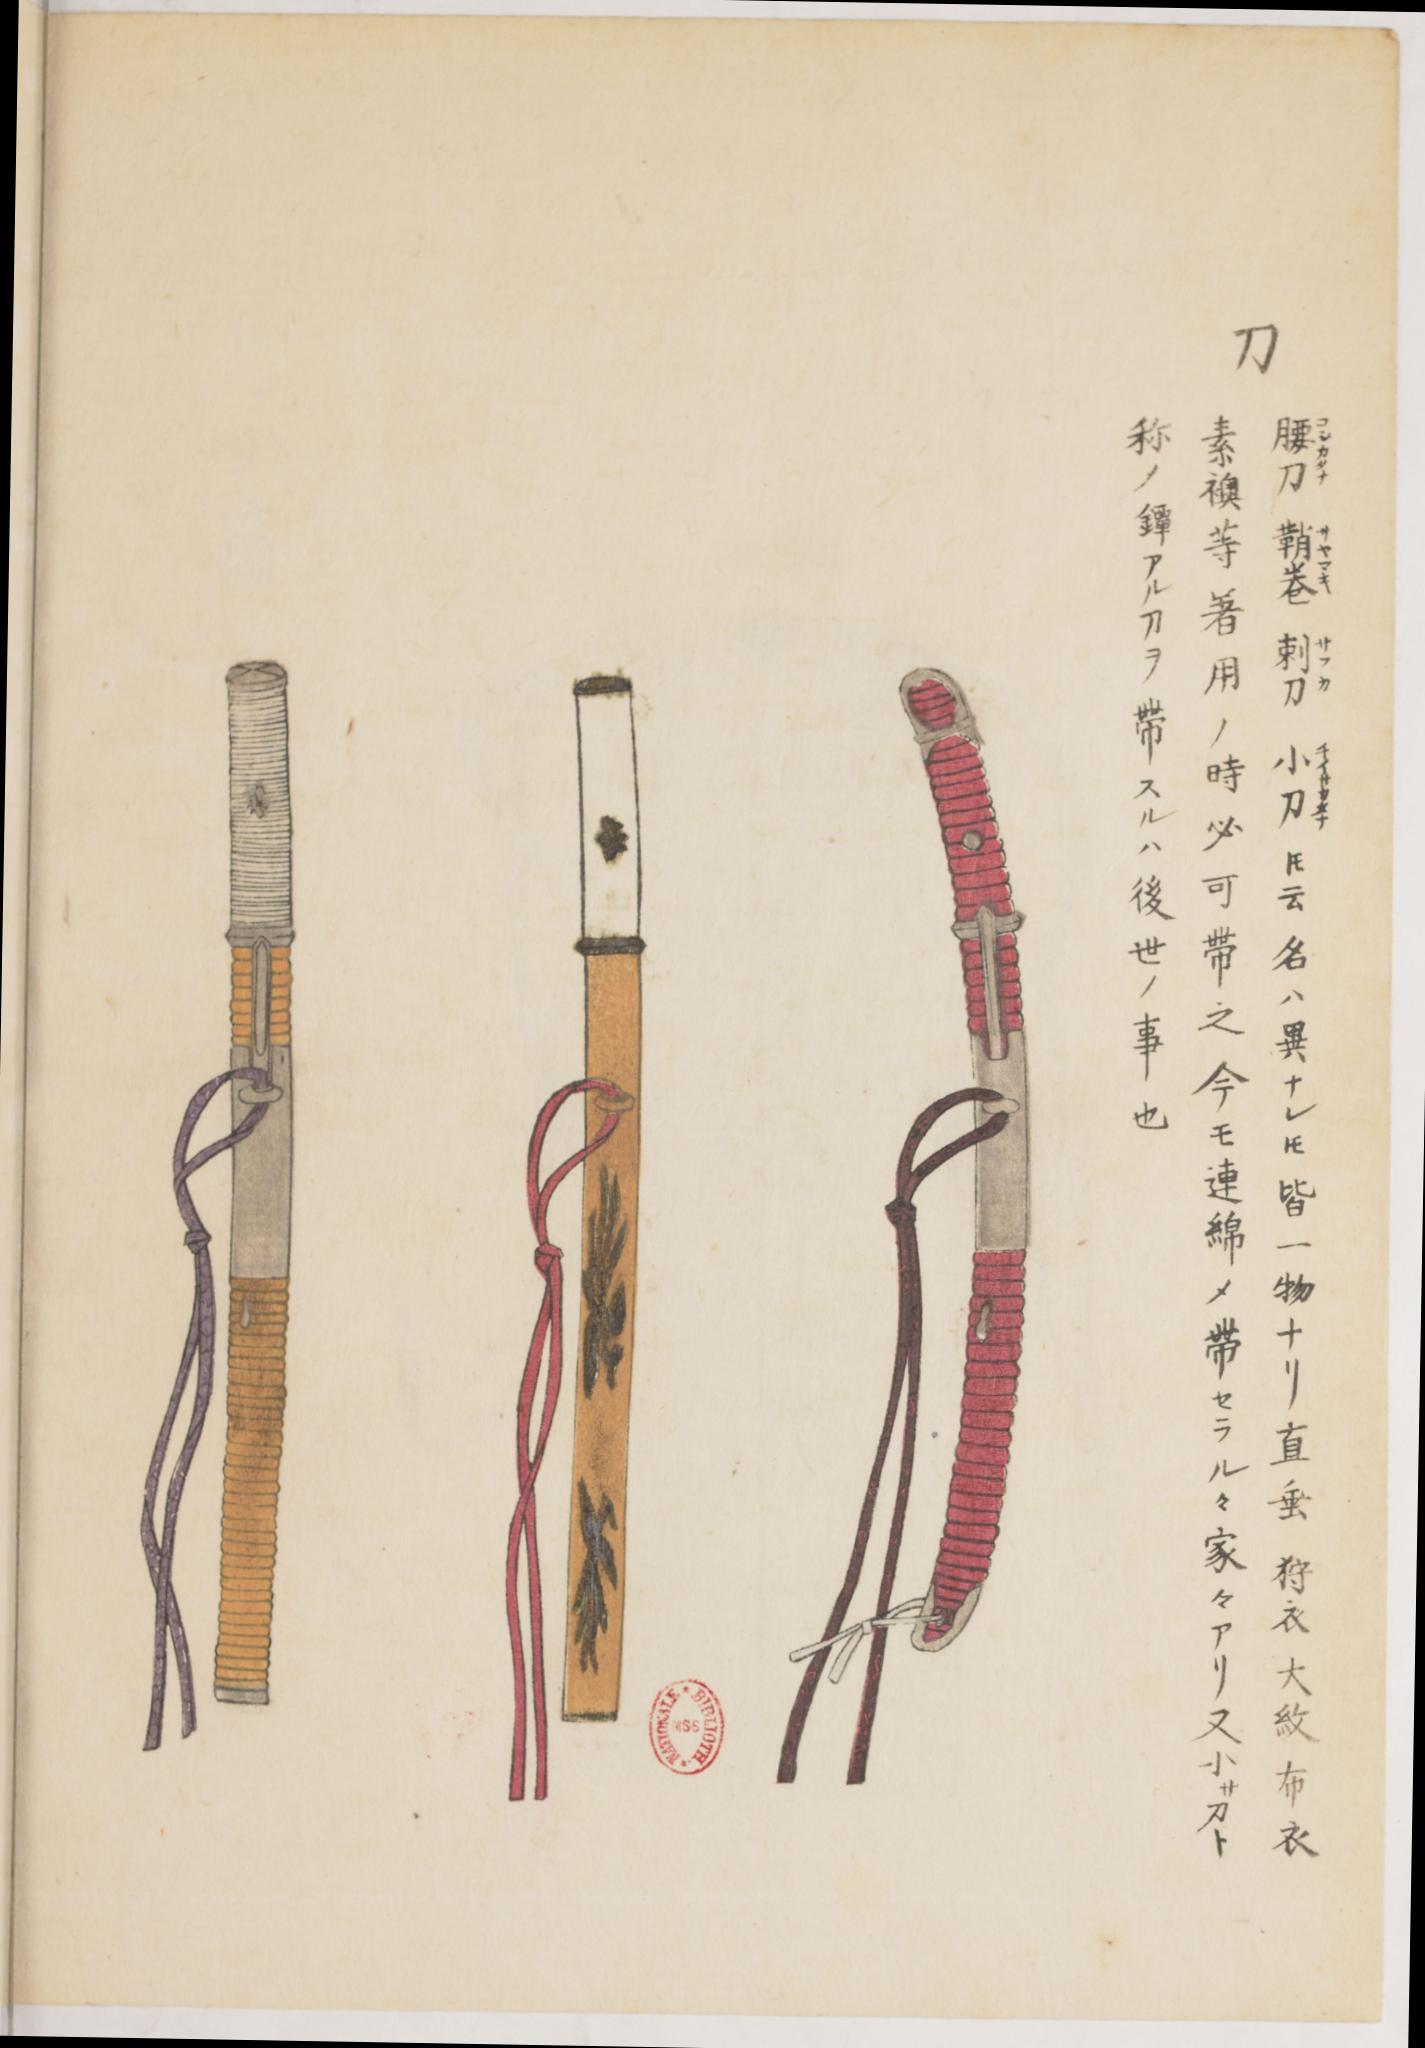MainZone-Character: (1268, 408, 1338, 458), (1273, 784, 1335, 836), (1277, 557, 1339, 607), (1276, 627, 1335, 677), (1269, 741, 1333, 784), (1271, 458, 1332, 503), (1276, 515, 1336, 560), (1279, 674, 1335, 711)
MainZone-Ruby: (1311, 742, 1333, 784), (1310, 787, 1330, 829), (1311, 633, 1335, 669), (1315, 412, 1332, 456), (1313, 523, 1333, 559), (1316, 560, 1336, 594), (1315, 461, 1329, 486), (1318, 675, 1333, 694)
